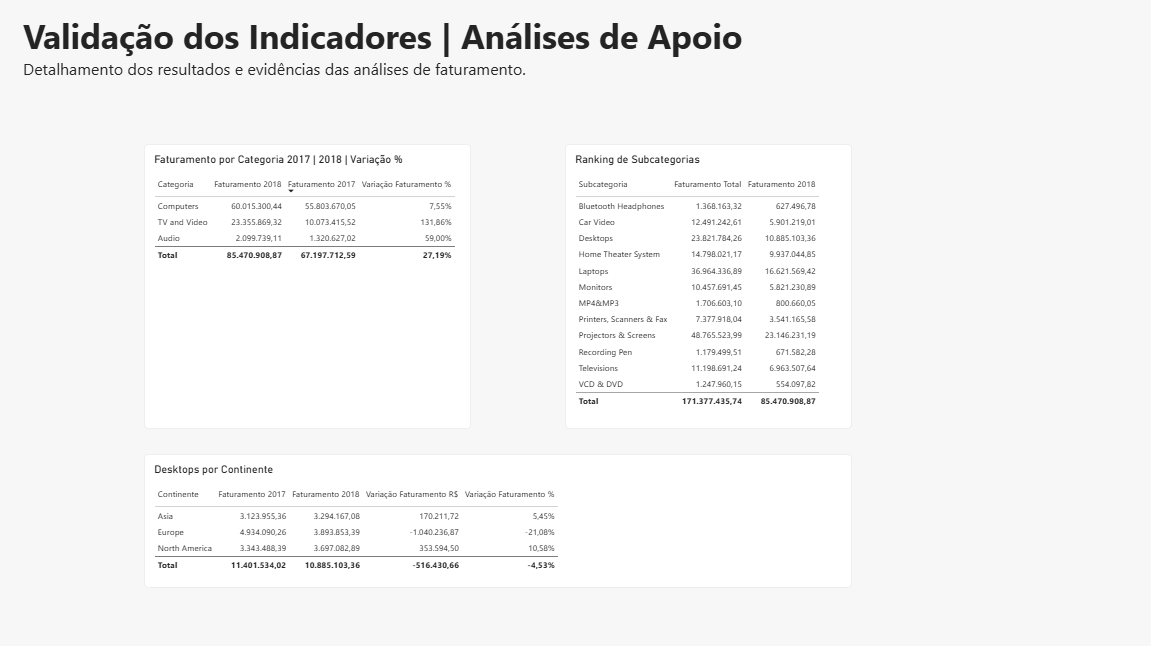

Layout of this report page (visuals, bound fields, positions):
{"tool":"powerbi","page":{"name":"03 - Análises de Apoio","canvas":[1920,1080],"ordinal":2},"visuals":[{"type":"tableEx","title":"Faturamento por Categoria 2017 | 2018 | Variação %","fields":{"Values":["DimCategoria.Categoria","Calendario.Faturamento 2018","Calendario.Faturamento 2017","Calendario.Variação Faturamento %"]},"box":[240,243.3,545,475],"z":0},{"type":"textbox","box":[38.3,25,1226.7,150],"z":1},{"type":"tableEx","title":"Desktops por Continente","fields":{"Values":["DimContinente.Continente","Calendario.Faturamento 2017","Calendario.Faturamento 2018","Calendario.Variação Faturamento R$","Calendario.Variação Faturamento %"]},"box":[240,760,1180,223.3],"z":2},{"type":"tableEx","title":"Ranking de Subcategorias","fields":{"Values":["Produto.Subcategoria","Calendario.Faturamento Total","Calendario.Faturamento 2018"]},"box":[941.7,243.3,478.3,475],"z":3}]}

Visuals, with their boxes in screenshot pixels (x1, y1, x2, y2), scaled from the page's 1920x1080 canvas onto the 1151x646 screenshot:
"Faturamento por Categoria 2017 | 2018 | Variação %" tableEx: <bbox>144, 146, 471, 430</bbox>
textbox: <bbox>23, 15, 758, 105</bbox>
"Desktops por Continente" tableEx: <bbox>144, 455, 851, 588</bbox>
"Ranking de Subcategorias" tableEx: <bbox>565, 146, 851, 430</bbox>
